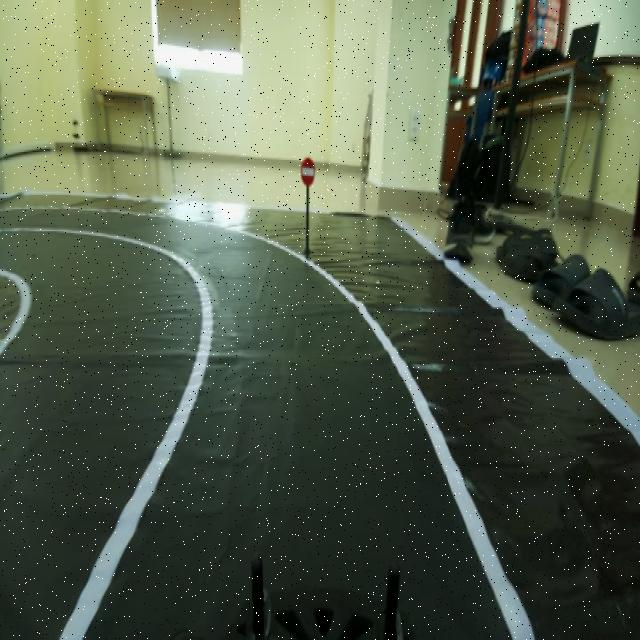no_entry: (295, 146, 318, 190)
